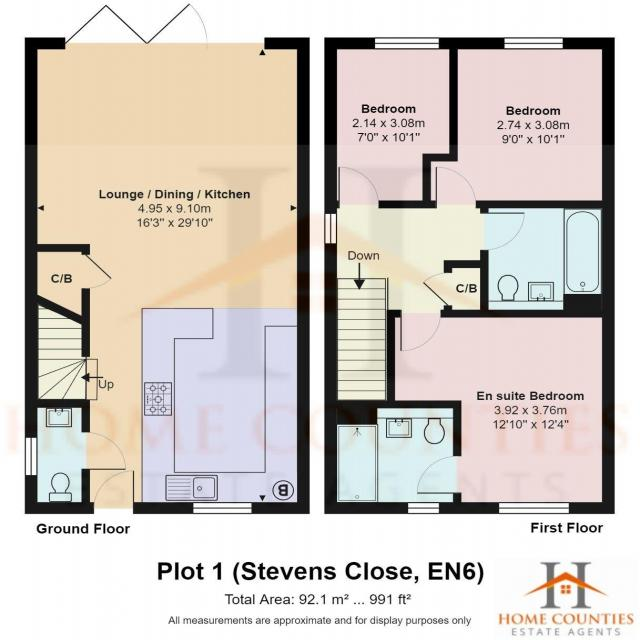DOOR: (92, 469, 136, 515), (398, 309, 443, 353), (416, 453, 462, 495), (434, 166, 478, 209), (337, 165, 380, 209), (81, 430, 127, 471), (480, 211, 526, 251)
FOLDING DOOR: (58, 0, 267, 52)
ROOM: (386, 309, 615, 514), (422, 37, 615, 209), (324, 37, 458, 209)
WINDOW: (498, 501, 570, 515), (191, 501, 254, 515), (503, 36, 565, 50), (374, 37, 440, 50), (24, 437, 38, 476), (324, 213, 338, 245), (407, 502, 440, 515)
